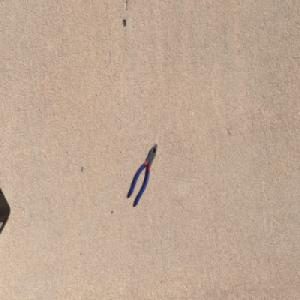Pliers: (128, 142, 158, 206)
